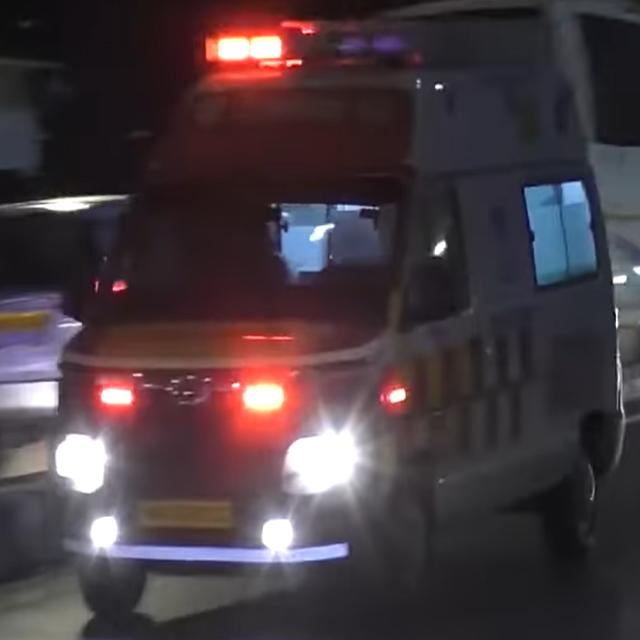ambulance: (44, 2, 639, 625)
